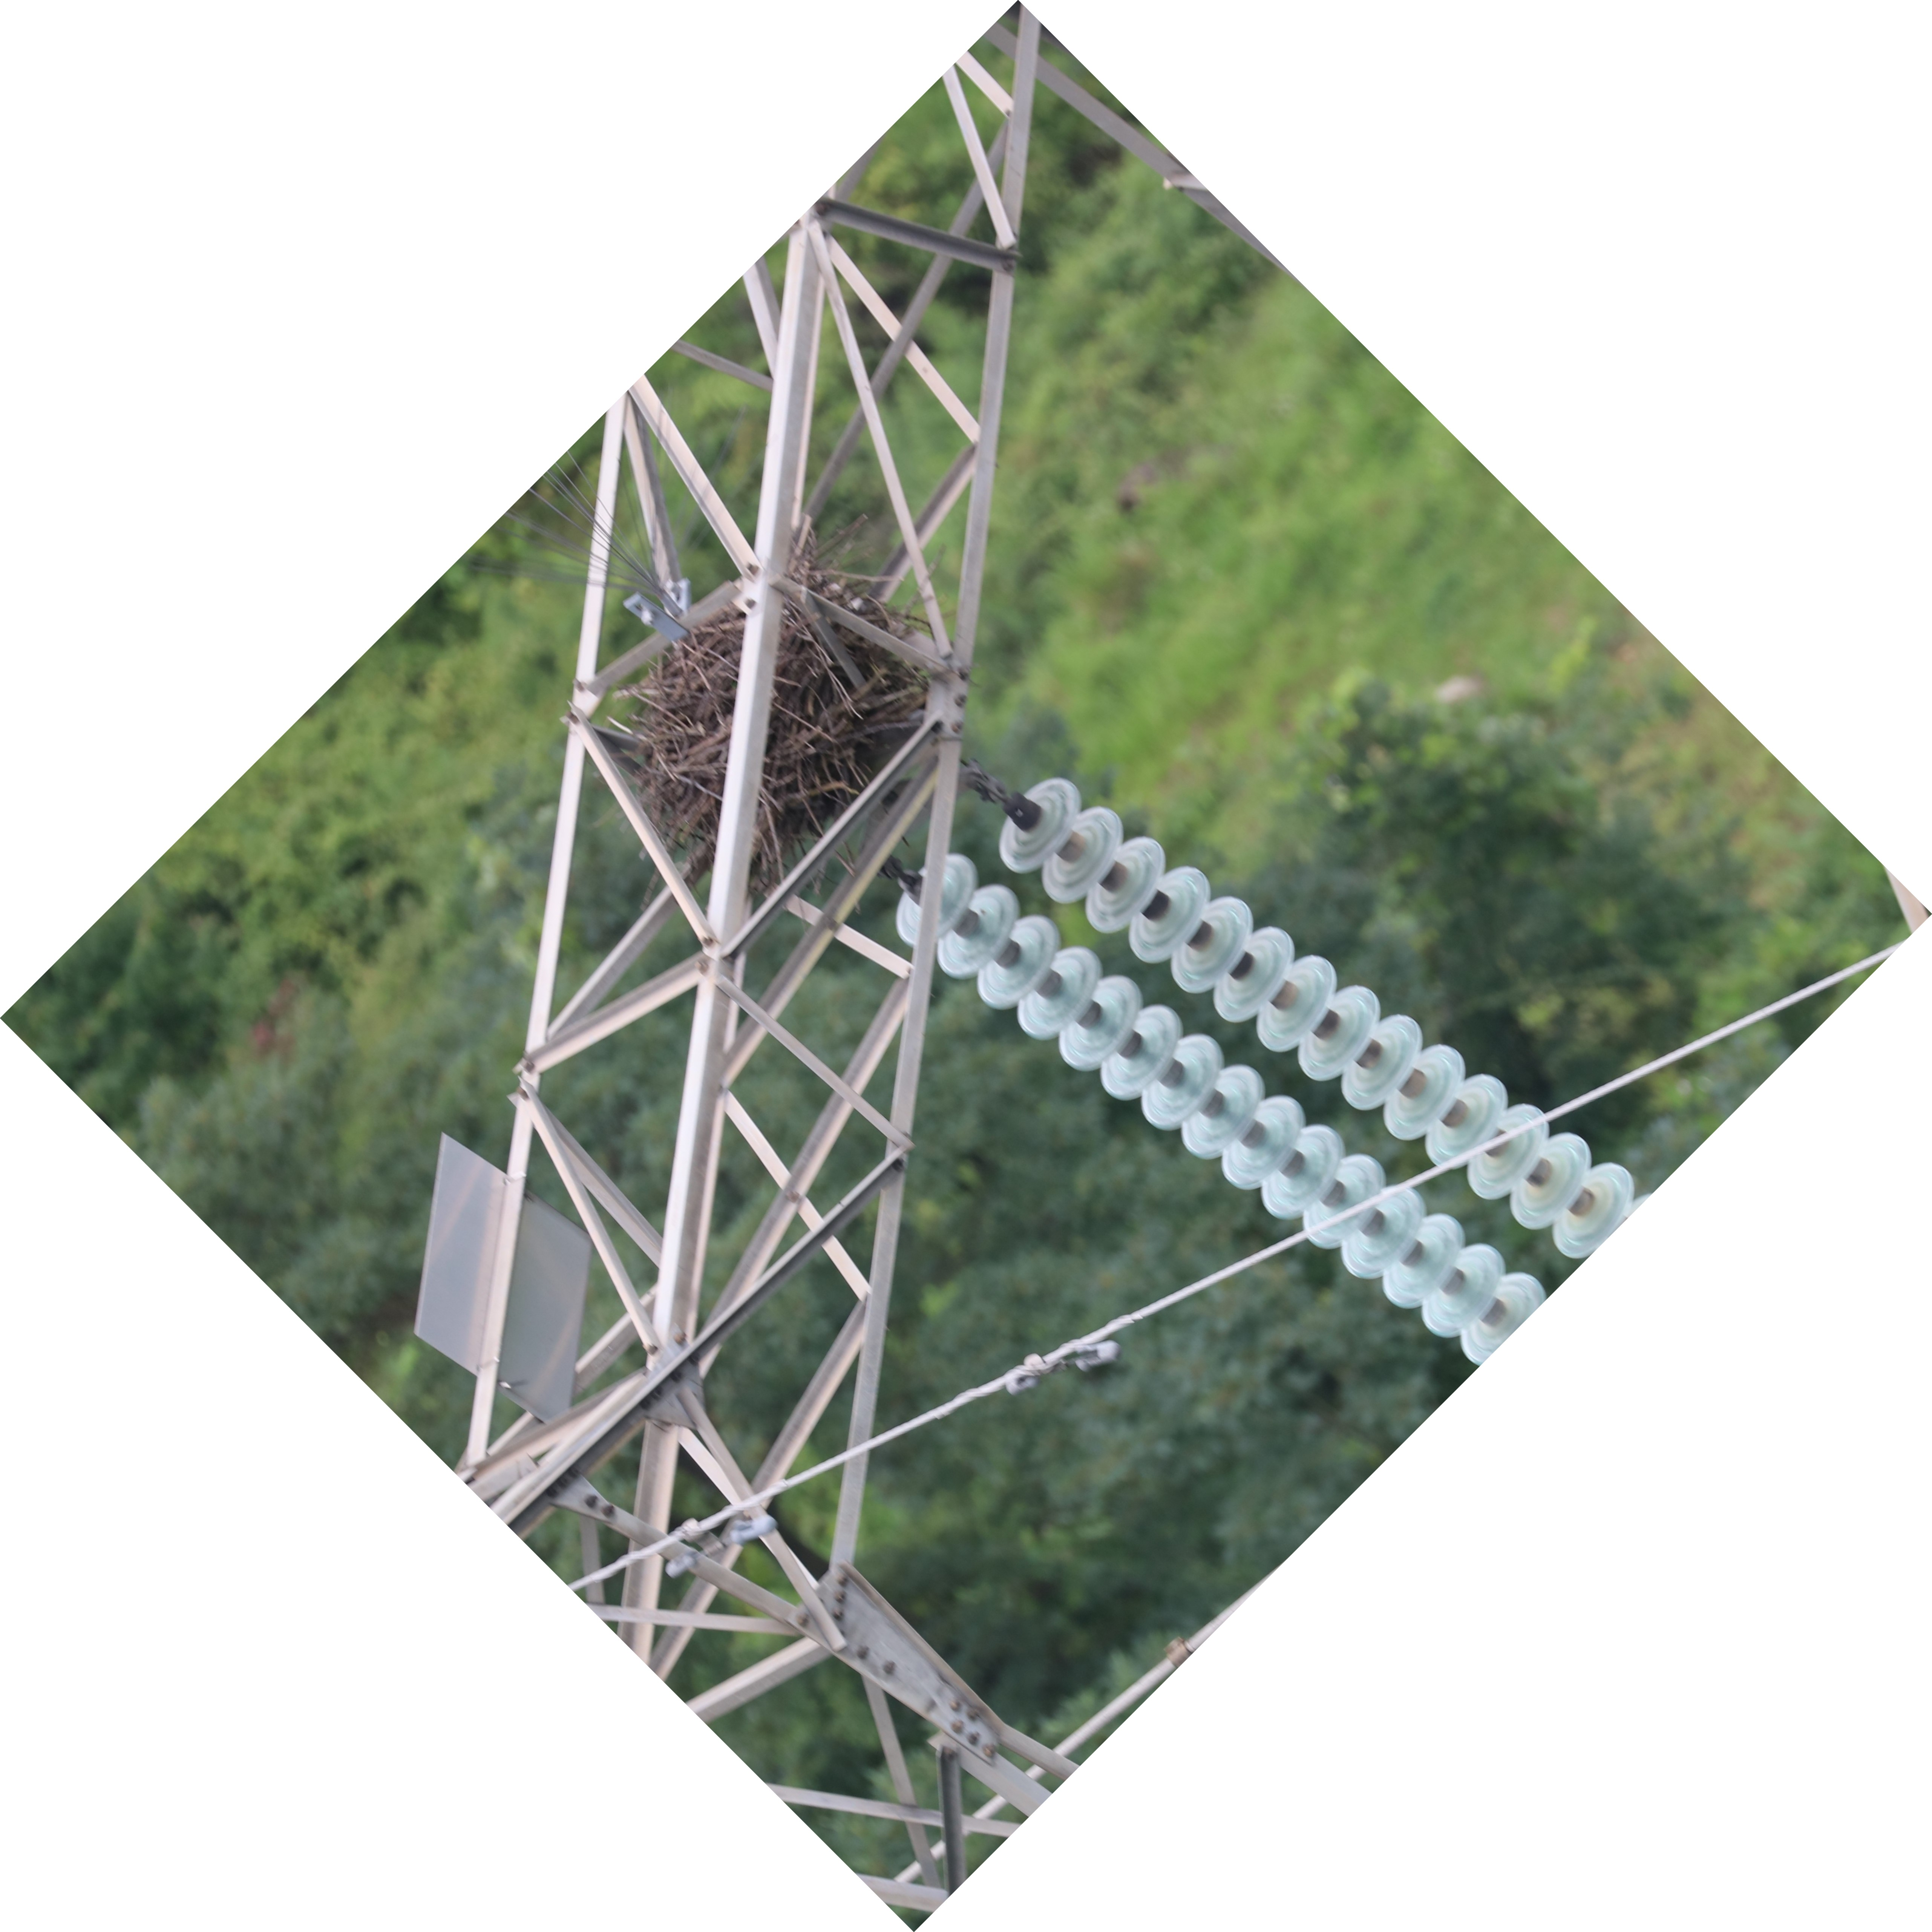niaowo: (612, 547, 959, 901)
